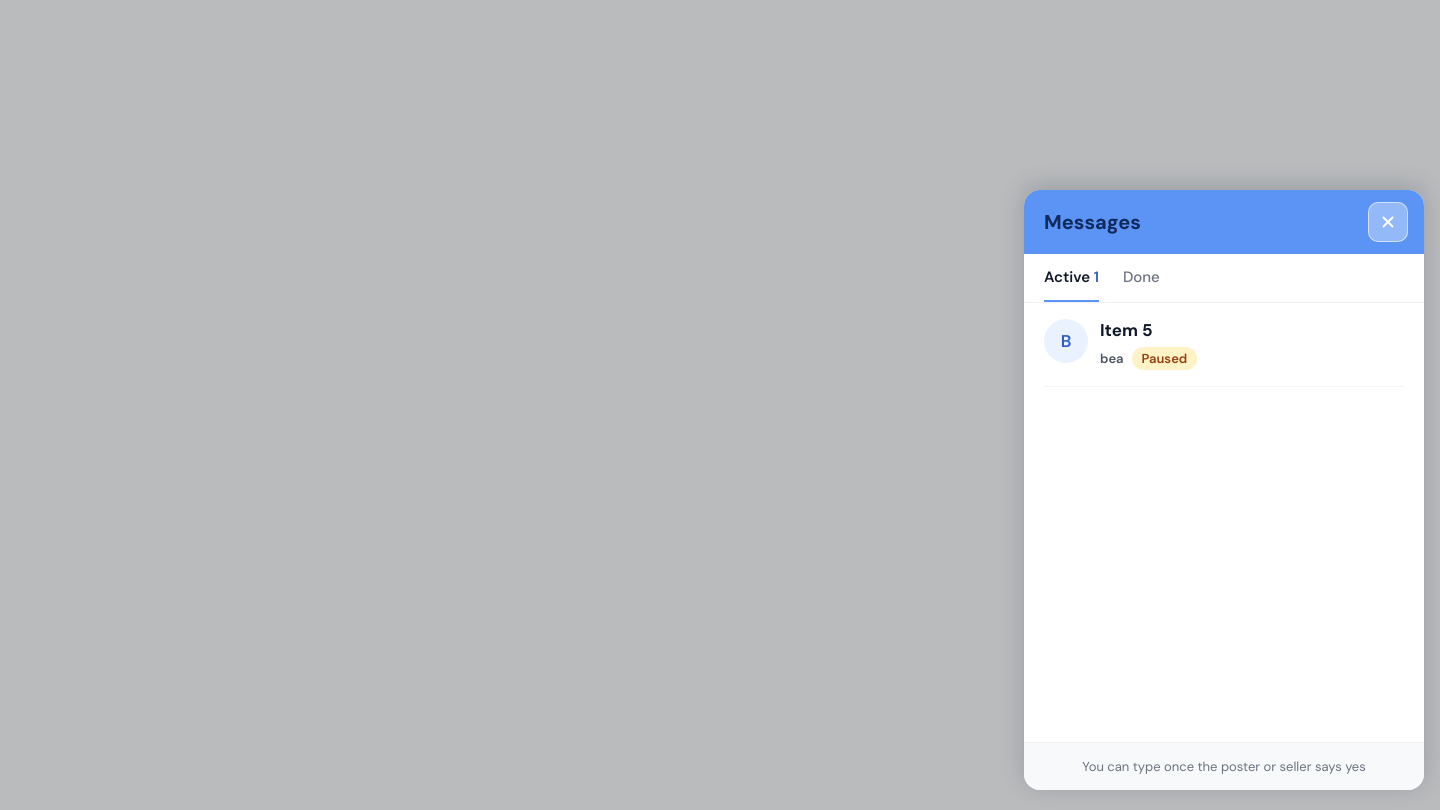
ChatWidget list › keeps a chat with a suspended account Active, marked Paused, and a blocked one Done, marked Flagged
The width and height of the screenshot is (1440, 810).
Expected: the text with class "status-chip" reads "Paused", x1=1142 y1=350 x2=1187 y2=367
Click the tab "Done" at (1141, 278), box x1=1123 y1=254 x2=1160 y2=302
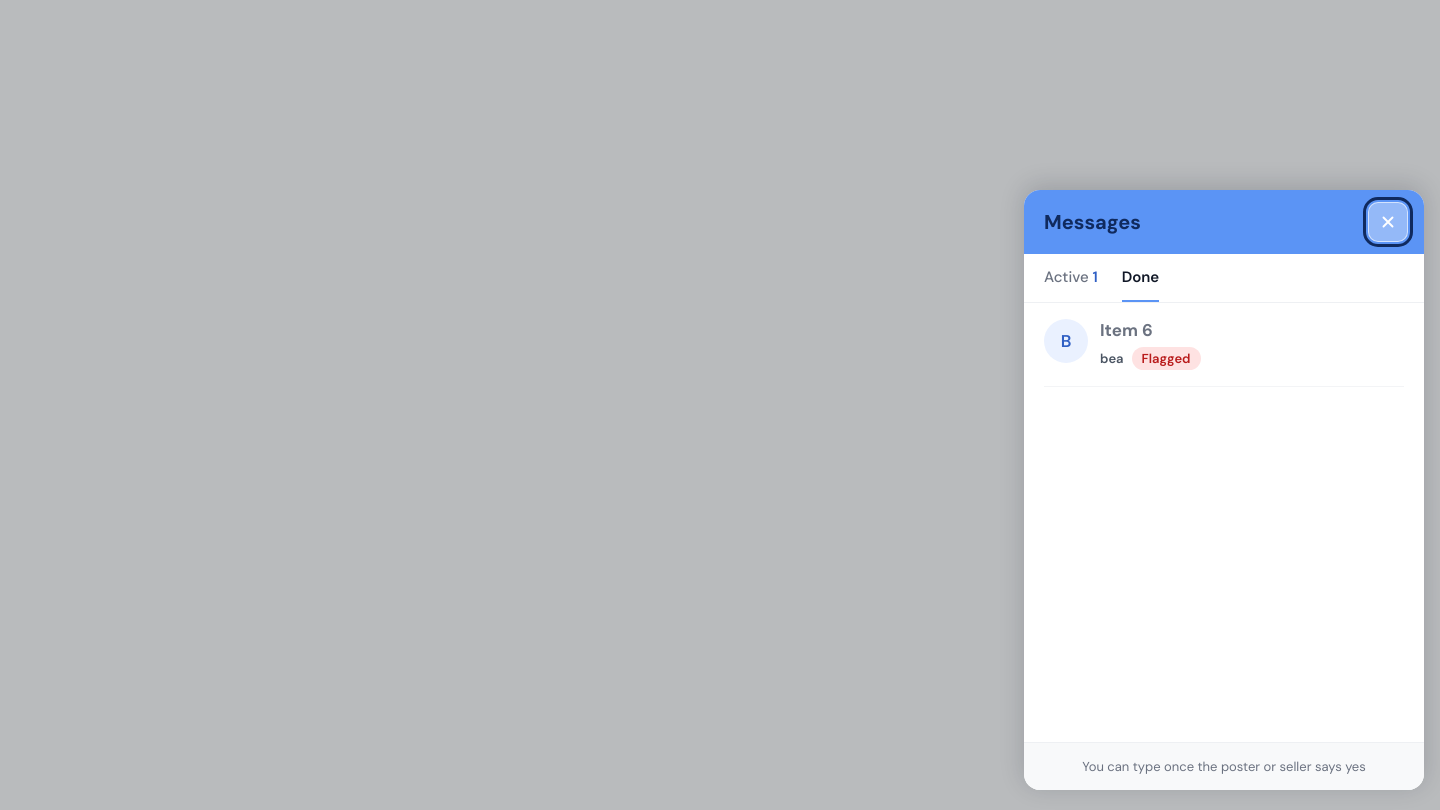
Result: the text with class "status-chip" reads "Flagged" at x1=1142 y1=350 x2=1191 y2=367
